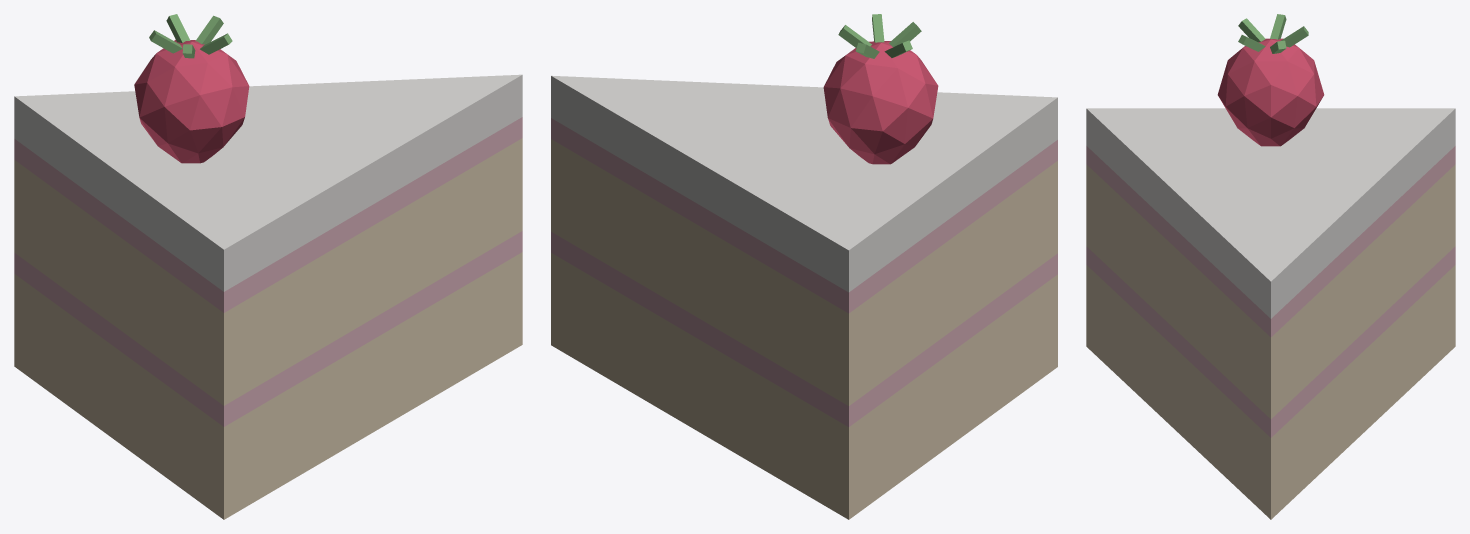
Rendered from lowpoly_cake_slice.glb.
The picture shows the model from 3 angles, left to right: view 1: azimuth 30°, elevation 25°; view 2: azimuth 150°, elevation 25°; view 3: azimuth 270°, elevation 25°; orthographic projection. The views are drawn at different scales.
Parts seen in each view (by area): view 1: geometry_0; view 2: geometry_0; view 3: geometry_0.
Boxes of the visible parts, left/top/right/bottom form: geometry_0: left=14, top=14, right=522, bottom=519; geometry_0: left=551, top=14, right=1057, bottom=519; geometry_0: left=1086, top=14, right=1455, bottom=519.
Size of the model in its own units: 1 by 0.9401 by 0.9.
